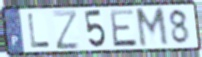5: (83, 9, 107, 49)
8: (168, 8, 192, 46)
E: (108, 8, 139, 48)
L: (26, 13, 51, 49)
M: (134, 5, 171, 49)
Z: (51, 9, 81, 51)
